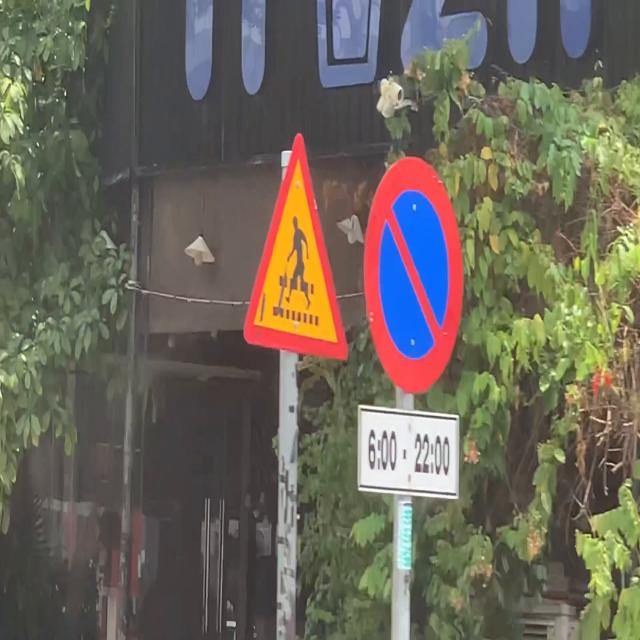Cam do: (364, 151, 464, 395)
Nguoi di bo cat ngang: (237, 122, 354, 371)
